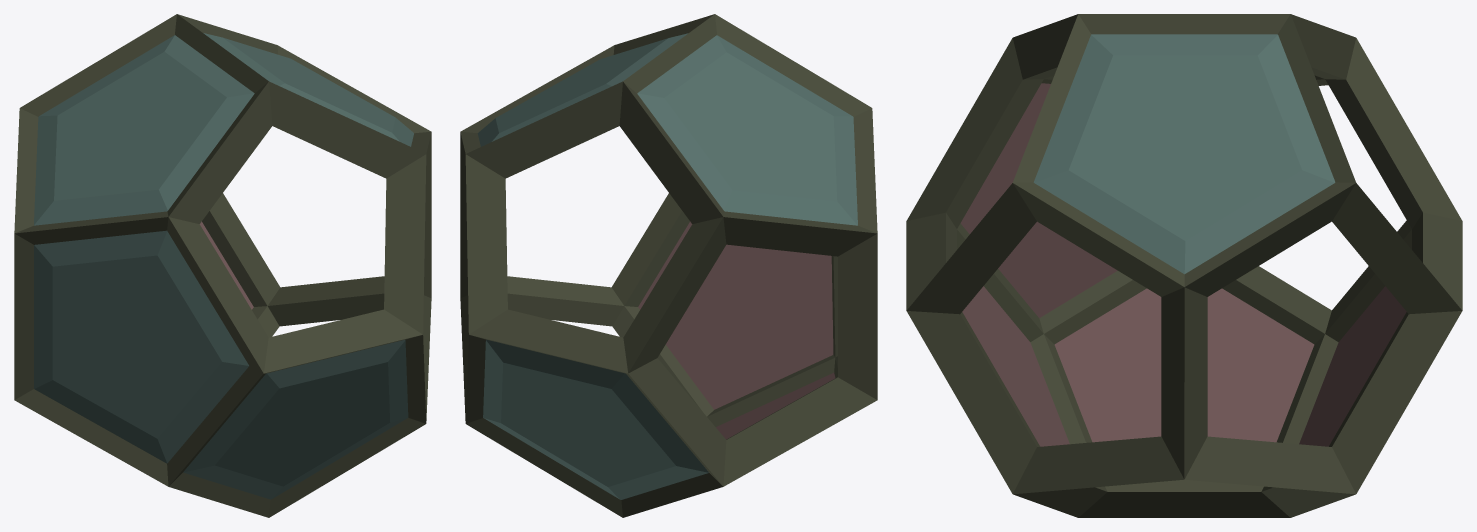
The model's file is PentaMesh.fbx.
3 views of the same model, side by side, from view 1: azimuth 30°, elevation 25°; view 2: azimuth 150°, elevation 25°; view 3: azimuth 270°, elevation 25° (orthographic). The views are drawn at different scales.
Parts seen in each view (by area): view 1: Solid.001; view 2: Solid.001; view 3: Solid.001.
Part boxes in pixels (x1,y1,x2,y2): Solid.001: (14, 14, 431, 517); Solid.001: (460, 14, 877, 517); Solid.001: (906, 14, 1462, 517).
Size of the model in its own units: 206 by 206 by 206.
